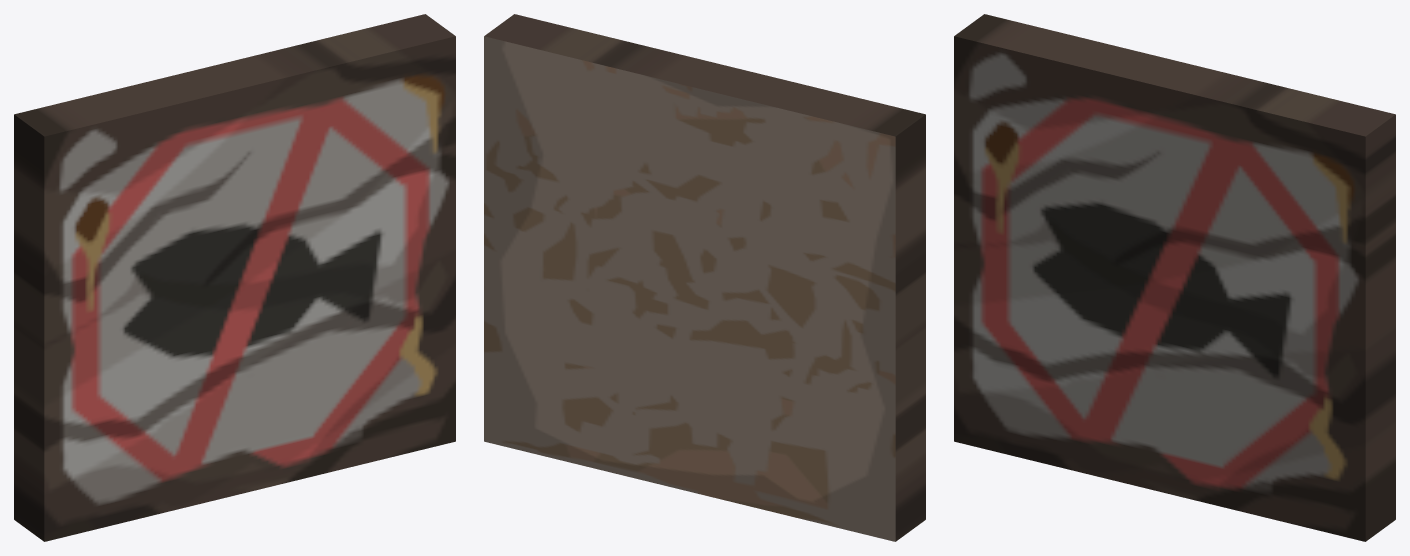
File: SM_Prop_Sign_Custom_09.fbx
3 renders of one model, left to right at view 1: azimuth 30°, elevation 25°; view 2: azimuth 150°, elevation 25°; view 3: azimuth 330°, elevation 25°, orthographic.
Visible parts, largest first — view 1: SM_Prop_Sign_Custom_09; view 2: SM_Prop_Sign_Custom_09; view 3: SM_Prop_Sign_Custom_09.
Part boxes in pixels (<box>): SM_Prop_Sign_Custom_09: <box>14,14,455,541</box>; SM_Prop_Sign_Custom_09: <box>484,14,925,541</box>; SM_Prop_Sign_Custom_09: <box>954,14,1395,541</box>.
Bounding box in the file's own units: 49.18 × 46.3 × 6.29.
